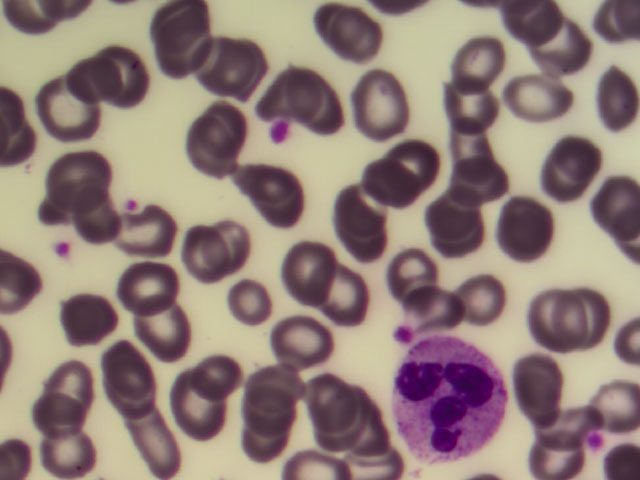Platelets: (271, 120, 288, 142), (121, 194, 139, 213), (53, 241, 72, 259), (588, 433, 605, 450), (395, 327, 411, 341)
RBC: (529, 20, 596, 79), (35, 77, 95, 136), (61, 55, 121, 114), (87, 42, 147, 101), (147, 17, 207, 76), (188, 24, 248, 83), (228, 38, 288, 97), (261, 57, 321, 116), (297, 75, 357, 134), (356, 77, 416, 136), (340, 10, 400, 69), (304, 2, 364, 61), (446, 87, 506, 146), (448, 43, 508, 102), (499, 61, 559, 120), (580, 68, 640, 127), (538, 140, 598, 199), (580, 174, 640, 233), (496, 202, 556, 261), (429, 200, 489, 259), (445, 149, 505, 208), (440, 115, 500, 174), (388, 132, 448, 191), (368, 149, 428, 208), (332, 177, 392, 236), (335, 210, 395, 269), (253, 176, 313, 235), (233, 155, 293, 214), (189, 121, 249, 180), (193, 98, 253, 157), (162, 221, 222, 280), (189, 219, 249, 278), (134, 212, 194, 271), (69, 192, 129, 251), (46, 148, 106, 207), (59, 290, 119, 349), (107, 257, 167, 316), (135, 291, 195, 350), (98, 338, 158, 397), (104, 372, 164, 431), (123, 414, 183, 473), (40, 421, 100, 480), (26, 386, 86, 445), (39, 349, 99, 408), (167, 377, 227, 436), (188, 340, 248, 399), (243, 346, 303, 405), (240, 378, 300, 437), (231, 413, 291, 472), (272, 313, 332, 372), (225, 281, 285, 340), (283, 238, 343, 297), (310, 257, 370, 316), (382, 246, 442, 305), (409, 275, 469, 334), (450, 267, 510, 326), (520, 293, 580, 352), (555, 292, 615, 351), (514, 346, 574, 405), (520, 397, 580, 456), (517, 421, 577, 480), (301, 361, 361, 420), (316, 391, 376, 450), (337, 421, 397, 480)
WBC: (396, 341, 508, 463)
